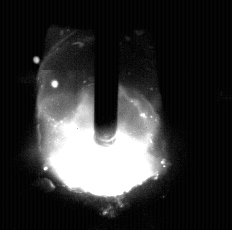arame: (95, 0, 119, 146)
poca: (38, 0, 167, 230)
